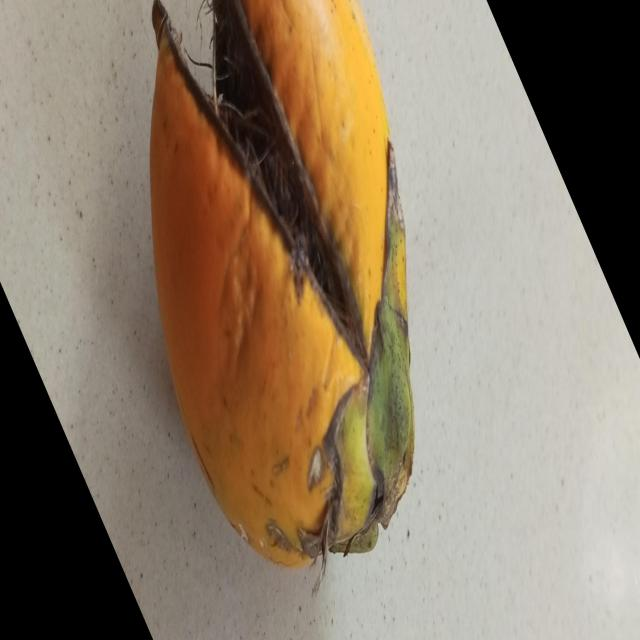damaged: (149, 0, 415, 571)
